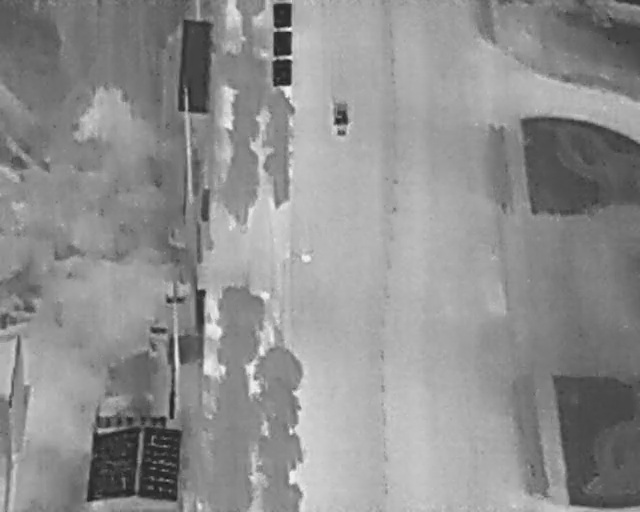Car: (331, 98, 351, 138)
Person: (300, 253, 312, 263)
